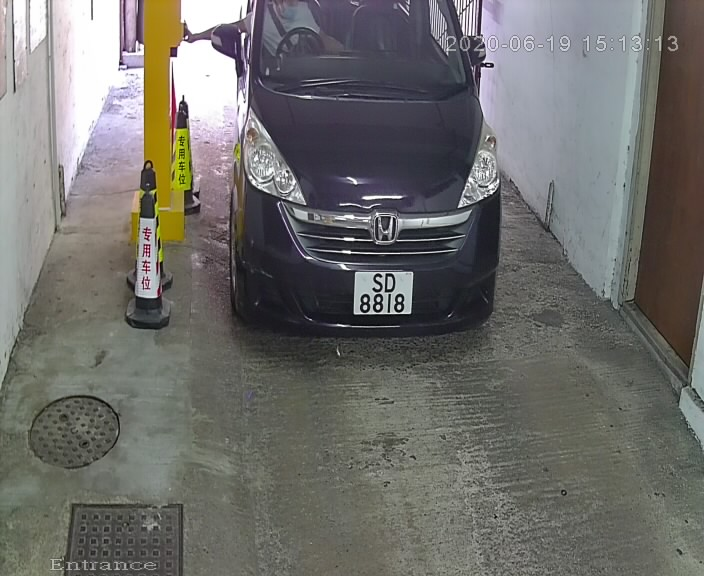privatecar: (216, 3, 514, 360)
